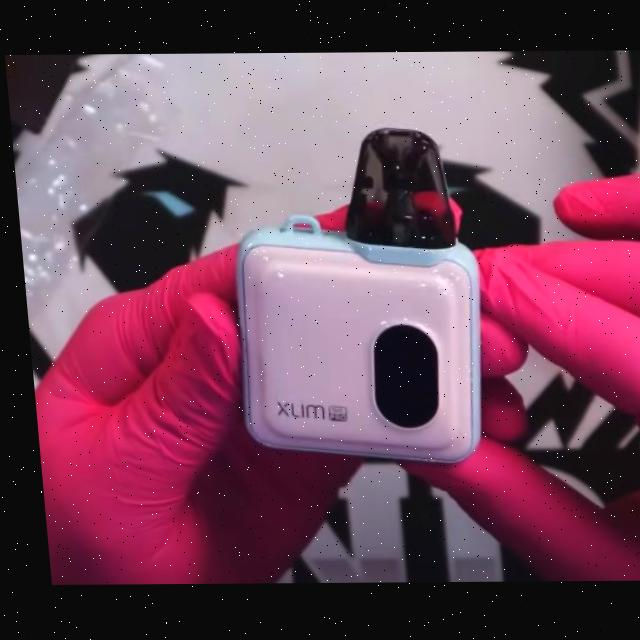vape: (215, 126, 489, 468)
